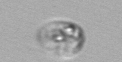plankton: (32, 17, 91, 60)
